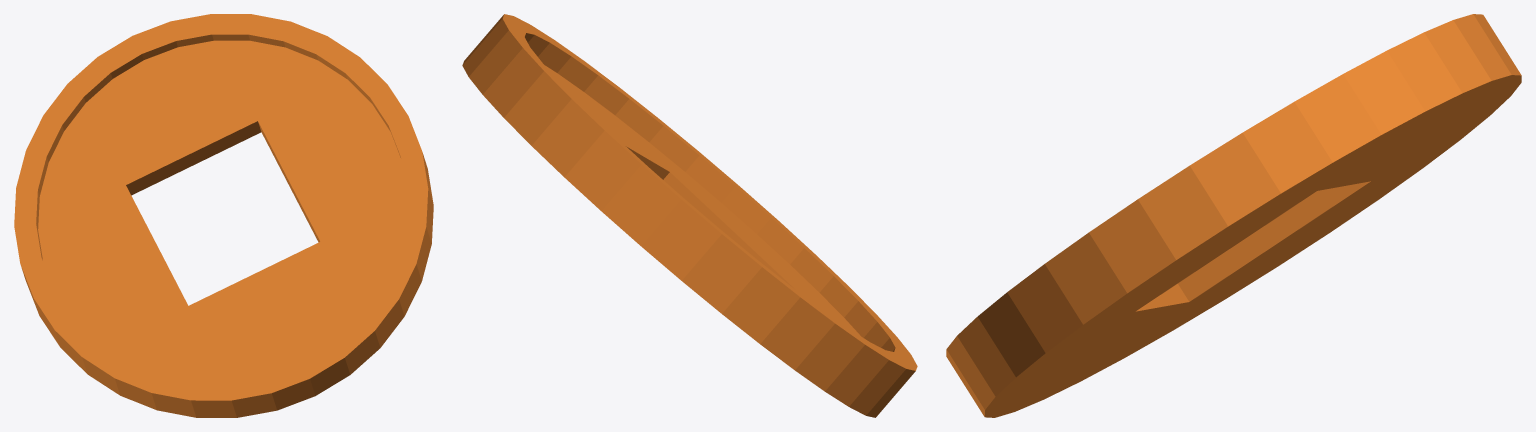
File: monk_coin.gltf
The picture shows the model from 3 angles, left to right: view 1: azimuth 30°, elevation 25°; view 2: azimuth 150°, elevation 25°; view 3: azimuth 270°, elevation 25°; orthographic projection. The views are drawn at different scales.
Visible parts, largest first — view 1: Cylinder.003; view 2: Cylinder.003; view 3: Cylinder.003.
Boxes of the visible parts, left/top/right/bottom form: Cylinder.003: left=14, top=14, right=433, bottom=417; Cylinder.003: left=462, top=14, right=917, bottom=417; Cylinder.003: left=946, top=14, right=1521, bottom=417.
Size of the model in its own units: 0.997 by 0.8141 by 0.9513.
